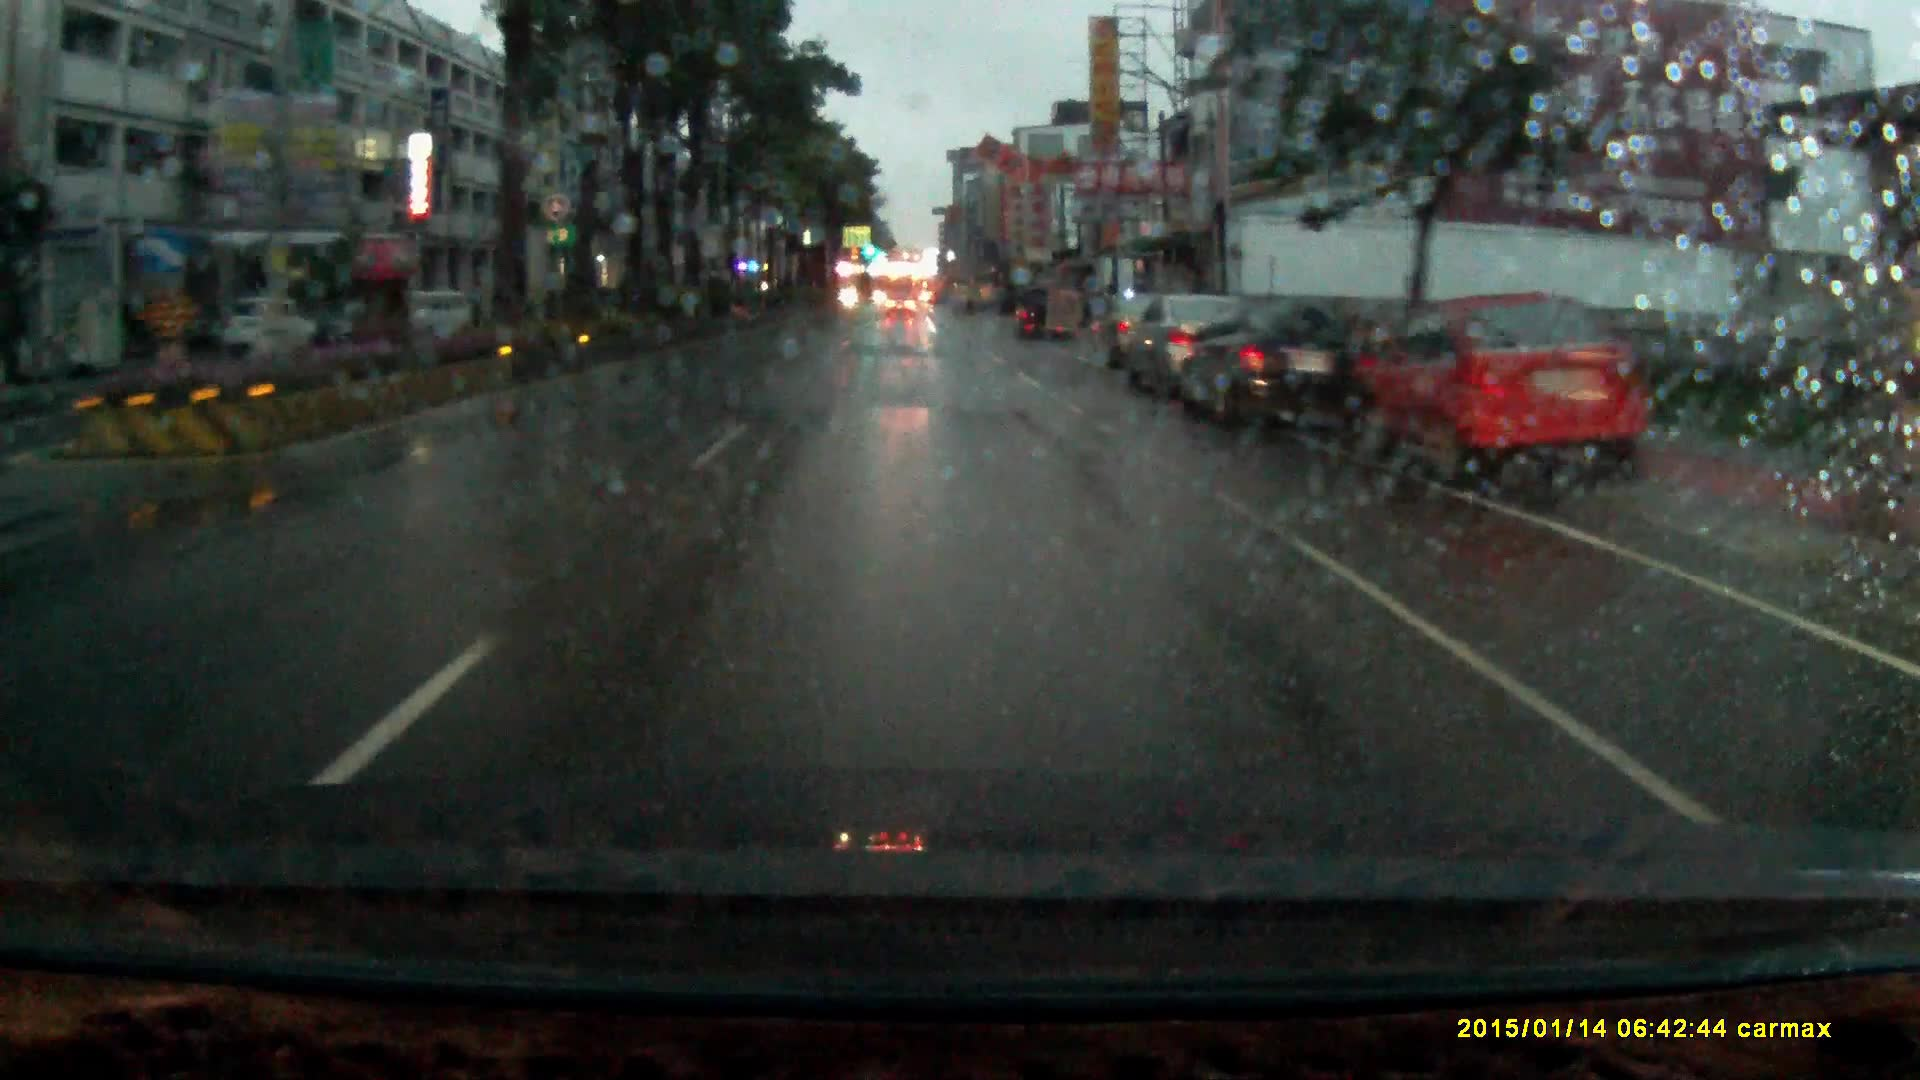vehicle: (1374, 298, 1675, 501), (1176, 301, 1389, 442), (1124, 295, 1249, 393), (371, 291, 476, 343), (229, 299, 313, 356), (1087, 298, 1154, 368), (1006, 287, 1073, 347), (886, 293, 916, 322)
